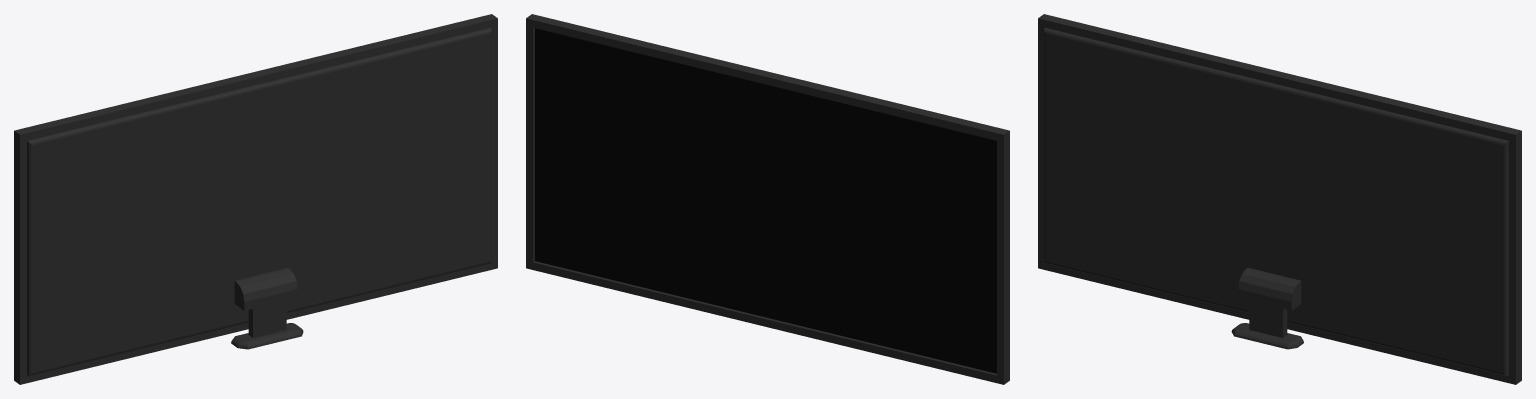
3 views of the same model, side by side, from view 1: azimuth 30°, elevation 25°; view 2: azimuth 150°, elevation 25°; view 3: azimuth 330°, elevation 25° (orthographic).
Parts seen in each view (by area): view 1: TV; view 2: TV; view 3: TV.
Part boxes in pixels (bbox=[...]): TV: bbox=[14, 14, 497, 384]; TV: bbox=[526, 14, 1009, 384]; TV: bbox=[1038, 14, 1521, 384].
Size of the model in its own units: 280 by 143 by 22.34.
1 material, 1 textured.
